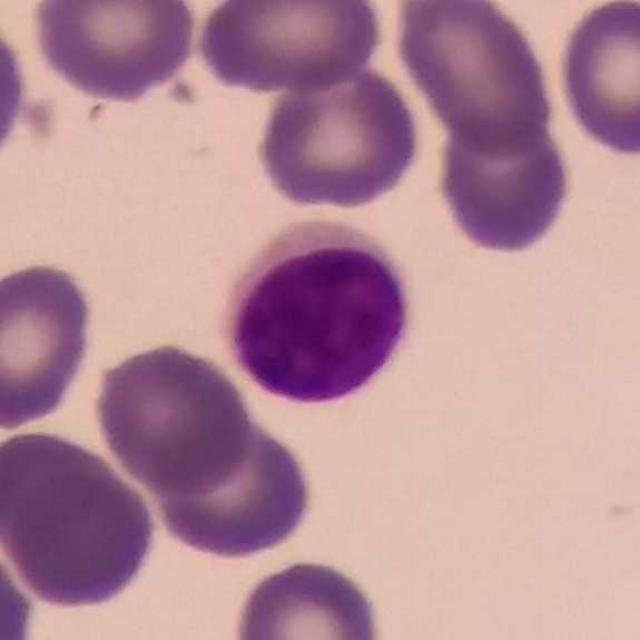Lymphocyte: (218, 222, 424, 419)
RBC: (0, 422, 161, 613), (252, 59, 425, 214), (389, 0, 560, 155), (89, 338, 256, 496), (148, 413, 318, 563), (432, 109, 576, 258), (192, 0, 388, 95), (28, 0, 200, 104), (0, 257, 100, 432), (553, 0, 640, 160), (228, 554, 389, 640), (0, 5, 32, 180), (0, 531, 40, 640)
